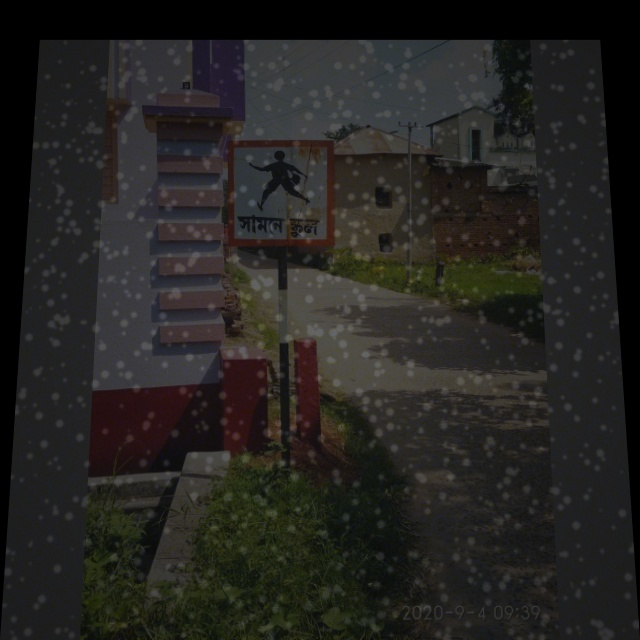School_Ahead: (231, 140, 332, 242)
